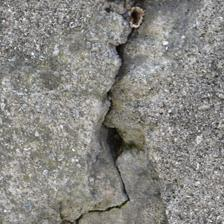Crack: (32, 11, 114, 122), (0, 32, 129, 96)
